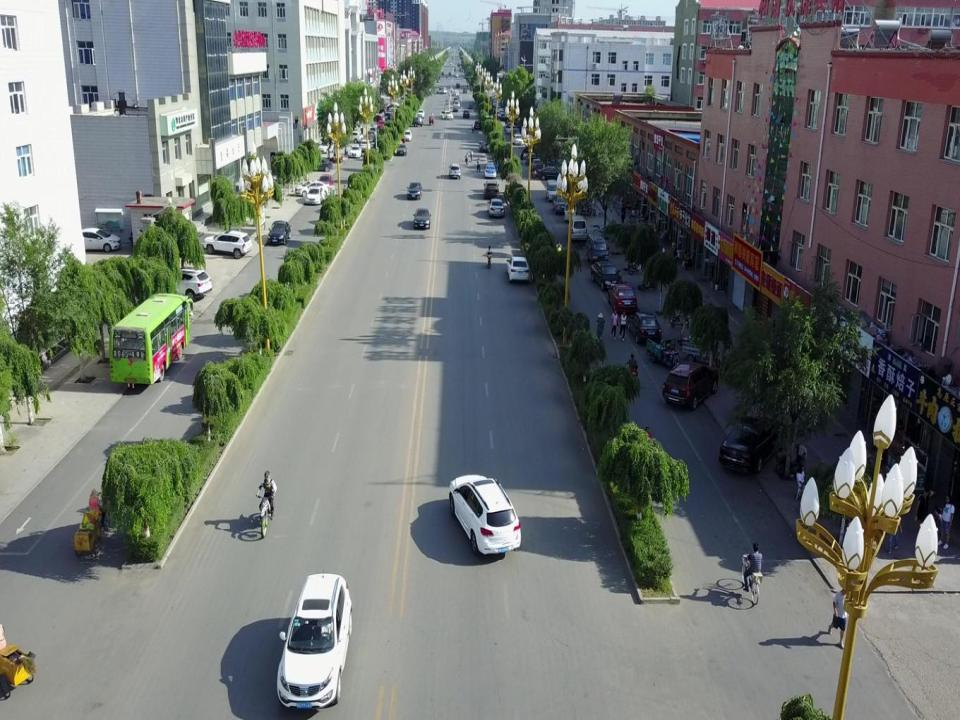bus: (111, 292, 193, 388)
car: (277, 572, 351, 712), (450, 473, 521, 559), (718, 413, 789, 473), (661, 360, 718, 410), (163, 268, 212, 298), (204, 230, 252, 258), (628, 310, 662, 344), (80, 227, 120, 252), (591, 259, 622, 291), (608, 282, 636, 312), (507, 255, 529, 283), (294, 180, 329, 197), (268, 221, 292, 244), (413, 207, 431, 230), (487, 200, 505, 219), (308, 158, 333, 171), (553, 194, 569, 214), (538, 165, 560, 179), (306, 187, 324, 204), (484, 180, 499, 200), (406, 182, 422, 200), (448, 164, 461, 179), (484, 162, 496, 178), (346, 131, 362, 143), (318, 140, 334, 152), (317, 174, 333, 186), (359, 139, 371, 151), (350, 145, 361, 157), (410, 117, 423, 127), (397, 144, 408, 155), (512, 134, 523, 145), (479, 141, 489, 153), (441, 110, 453, 120), (532, 158, 542, 170), (504, 124, 516, 134), (365, 130, 375, 141), (403, 129, 412, 141), (416, 108, 425, 118), (462, 109, 470, 119), (436, 88, 447, 94), (474, 120, 480, 129), (467, 102, 473, 109), (452, 105, 459, 111), (454, 101, 460, 108), (453, 97, 459, 103), (462, 87, 468, 93), (453, 90, 458, 96), (456, 83, 460, 88)
truck: (453, 93, 459, 100)
van: (586, 232, 608, 262), (568, 215, 587, 240), (546, 180, 558, 200)
